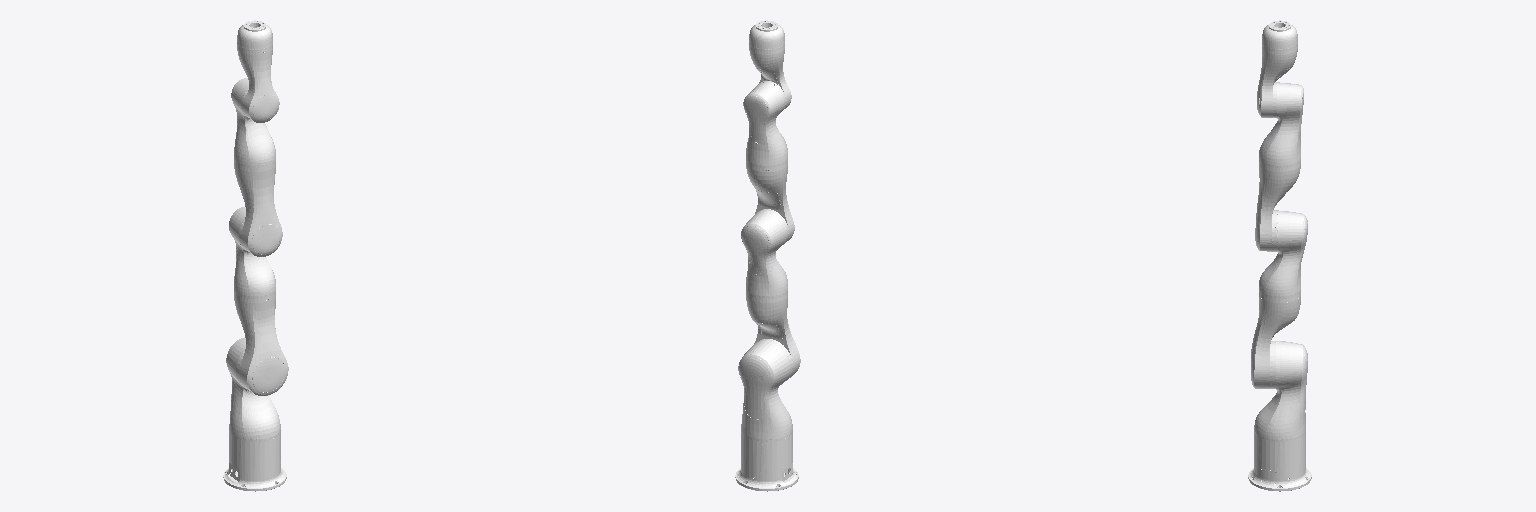
URDF robot description (Talon.SLDASM):
<?xml version="1.0" encoding="utf-8"?>
<!-- This URDF was automatically created by SolidWorks to URDF Exporter! Originally created by Stephen Brawner (brawner@gmail.com) 
     Commit Version: 1.6.0-1-g15f4949  Build Version: 1.6.7594.29634
     For more information, please see http://wiki.ros.org/sw_urdf_exporter -->
<robot
  name="Talon.SLDASM">
  <link
    name="base_link">
    <inertial>
      <origin
        xyz="0.00127347422154827 0.000275797702284139 0.0598068239928352"
        rpy="0 0 0" />
      <mass
        value="0.55933351813654" />
      <inertia
        ixx="0.00243933528887446"
        ixy="-5.15754595188692E-06"
        ixz="2.11921036731776E-05"
        iyy="0.00236549564791421"
        iyz="5.49858817377574E-06"
        izz="0.00264045684061397" />
    </inertial>
    <visual>
      <origin
        xyz="0 0 0"
        rpy="0 0 0" />
      <geometry>
        <mesh
          filename="../meshes/base_link.dae" />
      </geometry>
      <material
        name="">
        <color
          rgba="1 1 1 1" />
      </material>
    </visual>
    <collision>
      <origin
        xyz="0 0 0"
        rpy="0 0 0" />
      <geometry>
        <mesh
          filename="../meshes/base_link.dae" />
      </geometry>
    </collision>
  </link>
  <link
    name="link_1">
    <inertial>
      <origin
        xyz="5.44479186672421E-06 0.0161907562410961 -0.091527579055999"
        rpy="0 0 0" />
      <mass
        value="0.845104940114152" />
      <inertia
        ixx="0.00579532246535955"
        ixy="-3.09713355311223E-07"
        ixz="2.12348670960708E-07"
        iyy="0.00621844074604144"
        iyz="-0.000546693141475931"
        izz="0.00232883741177242" />
    </inertial>
    <visual>
      <origin
        xyz="0 0 0"
        rpy="0 0 0" />
      <geometry>
        <mesh
          filename="../meshes/link_1.dae" />
      </geometry>
      <material
        name="">
        <color
          rgba="1 1 1 1" />
      </material>
    </visual>
    <collision>
      <origin
        xyz="0 0 0"
        rpy="0 0 0" />
      <geometry>
        <mesh
          filename="../meshes/link_1.dae" />
      </geometry>
    </collision>
  </link>
  <joint
    name="joint_1"
    type="revolute">
    <origin
      xyz="0 0 0.348"
      rpy="0 0 0" />
    <parent
      link="base_link" />
    <child
      link="link_1" />
    <axis
      xyz="0 0 1" />
    <limit
      lower="0"
      upper="0"
      effort="0"
      velocity="0" />
  </joint>
  <link
    name="link_2">
    <inertial>
      <origin
        xyz="1.66574878335788E-05 0.116094766238578 0.0287616433338841"
        rpy="0 0 0" />
      <mass
        value="0.515454769584672" />
      <inertia
        ixx="0.00352100730718542"
        ixy="5.36538274245949E-07"
        ixz="-3.84307913161956E-08"
        iyy="0.00136412829021354"
        iyz="0.000845111192834095"
        izz="0.00355070752934383" />
    </inertial>
    <visual>
      <origin
        xyz="0 0 0"
        rpy="0 0 0" />
      <geometry>
        <mesh
          filename="../meshes/link_2.dae" />
      </geometry>
      <material
        name="">
        <color
          rgba="1 1 1 1" />
      </material>
    </visual>
    <collision>
      <origin
        xyz="0 0 0"
        rpy="0 0 0" />
      <geometry>
        <mesh
          filename="../meshes/link_2.dae" />
      </geometry>
    </collision>
  </link>
  <joint
    name="joint_2"
    type="revolute">
    <origin
      xyz="0 0 0"
      rpy="1.5708 0 0" />
    <parent
      link="link_1" />
    <child
      link="link_2" />
    <axis
      xyz="0 0 1" />
    <limit
      lower="0"
      upper="0"
      effort="0"
      velocity="0" />
  </joint>
  <link
    name="link_3">
    <inertial>
      <origin
        xyz="7.50185086869355E-07 0.0156223133980361 -0.0799387235317394"
        rpy="0 0 0" />
      <mass
        value="0.603649790178088" />
      <inertia
        ixx="0.00324453049474891"
        ixy="5.59611911206187E-08"
        ixz="7.00314670889335E-08"
        iyy="0.00336963330811861"
        iyz="-0.000406826192004225"
        izz="0.00118273569484039" />
    </inertial>
    <visual>
      <origin
        xyz="0 0 0"
        rpy="0 0 0" />
      <geometry>
        <mesh
          filename="../meshes/link_3.dae" />
      </geometry>
      <material
        name="">
        <color
          rgba="1 1 1 1" />
      </material>
    </visual>
    <collision>
      <origin
        xyz="0 0 0"
        rpy="0 0 0" />
      <geometry>
        <mesh
          filename="../meshes/link_3.dae" />
      </geometry>
    </collision>
  </link>
  <joint
    name="joint_3"
    type="revolute">
    <origin
      xyz="0 0.41 0"
      rpy="-1.5708 0.0 0" />
    <parent
      link="link_2" />
    <child
      link="link_3" />
    <axis
      xyz="0 0 1" />
    <limit
      lower="0"
      upper="0"
      effort="0"
      velocity="0" />
  </joint>
  <link
    name="link_4">
    <inertial>
      <origin
        xyz="3.76592711375011E-06 0.119836460910615 0.022796377853045"
        rpy="0 0 0" />
      <mass
        value="0.426413769114997" />
      <inertia
        ixx="0.00237641440779408"
        ixy="2.06404797240597E-08"
        ixz="1.63114159939062E-07"
        iyy="0.000942849983094583"
        iyz="0.000465633594148769"
        izz="0.00243321523139839" />
    </inertial>
    <visual>
      <origin
        xyz="0 0 0"
        rpy="0 0 0" />
      <geometry>
        <mesh
          filename="../meshes/link_4.dae" />
      </geometry>
      <material
        name="">
        <color
          rgba="1 1 1 1" />
      </material>
    </visual>
    <collision>
      <origin
        xyz="0 0 0"
        rpy="0 0 0" />
      <geometry>
        <mesh
          filename="../meshes/link_4.dae" />
      </geometry>
    </collision>
  </link>
  <joint
    name="joint_4"
    type="revolute">
    <origin
      xyz="0 0 0"
      rpy="1.5708 0 0" />
    <parent
      link="link_3" />
    <child
      link="link_4" />
    <axis
      xyz="0 0 1" />
    <limit
      lower="0"
      upper="0"
      effort="0"
      velocity="0" />
  </joint>
  <link
    name="link_5">
    <inertial>
      <origin
        xyz="1.54601336331414E-05 0.0138685764271078 -0.0863362386693725"
        rpy="0 0 0" />
      <mass
        value="0.538781113488762" />
      <inertia
        ixx="0.0026343631954417"
        ixy="5.89218155516632E-07"
        ixz="5.4374587441694E-07"
        iyy="0.00271456640279973"
        iyz="-0.000293139957982096"
        izz="0.000981814667417963" />
    </inertial>
    <visual>
      <origin
        xyz="0 0 0"
        rpy="0 0 0" />
      <geometry>
        <mesh
          filename="../meshes/link_5.dae" />
      </geometry>
      <material
        name="">
        <color
          rgba="1 1 1 1" />
      </material>
    </visual>
    <collision>
      <origin
        xyz="0 0 0"
        rpy="0 0 0" />
      <geometry>
        <mesh
          filename="../meshes/link_5.dae" />
      </geometry>
    </collision>
  </link>
  <joint
    name="joint_5"
    type="revolute">
    <origin
      xyz="0 0.401 0"
      rpy="-1.5708 0 0" />
    <parent
      link="link_4" />
    <child
      link="link_5" />
    <axis
      xyz="0 0 1" />
    <limit
      lower="0"
      upper="0"
      effort="0"
      velocity="0" />
  </joint>
  <link
    name="link_6">
    <inertial>
      <origin
        xyz="1.13755728261694E-05 0.0905759671078148 0.0205192342166667"
        rpy="0 0 0" />
      <mass
        value="0.241804638076589" />
      <inertia
        ixx="0.000835731978799874"
        ixy="2.34899818336643E-07"
        ixz="4.72123863857083E-09"
        iyy="0.000380396414560217"
        iyz="0.000181114388077025"
        izz="0.000835718319527267" />
    </inertial>
    <visual>
      <origin
        xyz="0 0 0"
        rpy="0 0 0" />
      <geometry>
        <mesh
          filename="../meshes/link_6.dae" />
      </geometry>
      <material
        name="">
        <color
          rgba="1 1 1 1" />
      </material>
    </visual>
    <collision>
      <origin
        xyz="0 0 0"
        rpy="0 0 0" />
      <geometry>
        <mesh
          filename="../meshes/link_6.dae" />
      </geometry>
    </collision>
  </link>
  <joint
    name="joint_6"
    type="revolute">
    <origin
      xyz="0 0 0"
      rpy="1.5708 0 0" />
    <parent
      link="link_5" />
    <child
      link="link_6" />
    <axis
      xyz="0 0 1" />
    <limit
      lower="0"
      upper="0"
      effort="0"
      velocity="0" />
  </joint>
  <link
    name="link_7">
    <inertial>
      <origin
        xyz="-1.16496429690416E-09 1.93639311254993E-05 -0.0197746025777925"
        rpy="0 0 0" />
      <mass
        value="0.134516937122384" />
      <inertia
        ixx="0.000111729359893965"
        ixy="-9.45576223623909E-11"
        ixz="-6.23059423956938E-11"
        iyy="0.000111665195597899"
        iyz="-1.79818625937677E-08"
        izz="0.000182060691429154" />
    </inertial>
    <visual>
      <origin
        xyz="0 0 0"
        rpy="0 0 0" />
      <geometry>
        <mesh
          filename="../meshes/link_7.dae" />
      </geometry>
      <material
        name="">
        <color
          rgba="1 1 1 1" />
      </material>
    </visual>
    <collision>
      <origin
        xyz="0 0 0"
        rpy="0 0 0" />
      <geometry>
        <mesh
          filename="../meshes/link_7.dae" />
      </geometry>
    </collision>
  </link>
  <joint
    name="joint_7"
    type="revolute">
    <origin
      xyz="0 0.23 0"
      rpy="-1.5708 0 0" />
    <parent
      link="link_6" />
    <child
      link="link_7" />
    <axis
      xyz="0 0 -1" />
    <limit
      lower="0"
      upper="0"
      effort="0"
      velocity="0" />
  </joint>
</robot>

--- What the picture shows (computed from the rendered views, not written in the file) ---
The picture shows the robot from 3 angles, left to right: view 1: azimuth 30°, elevation 25°; view 2: azimuth 150°, elevation 25°; view 3: azimuth 270°, elevation 25°; orthographic projection.
Robot: Talon.SLDASM — 8 links, 7 joints (7 revolute); root link base_link; default pose: every joint at zero.
Visible links, largest first — view 1: link_2, link_4, link_1, base_link, link_5, link_3, link_6, link_7; view 2: link_1, link_3, link_5, base_link, link_2, link_4, link_6, link_7; view 3: link_1, link_3, link_5, base_link, link_2, link_4, link_6, link_7.
Boxes of the visible links, x1,y1,x2,y2 form: link_2: [234, 292, 288, 395]; link_4: [234, 161, 282, 256]; link_1: [226, 338, 280, 441]; base_link: [223, 432, 286, 491]; link_5: [231, 78, 275, 167]; link_3: [229, 207, 275, 298]; link_6: [237, 45, 279, 122]; link_7: [237, 20, 272, 50]; link_1: [738, 339, 792, 441]; link_3: [741, 209, 788, 298]; link_5: [743, 81, 787, 167]; base_link: [735, 432, 798, 491]; link_2: [746, 292, 800, 380]; link_4: [746, 161, 794, 242]; link_6: [749, 45, 791, 108]; link_7: [749, 20, 784, 50]; link_1: [1254, 341, 1307, 441]; link_3: [1259, 210, 1307, 298]; link_5: [1259, 82, 1303, 167]; base_link: [1248, 432, 1311, 491]; link_2: [1251, 292, 1300, 388]; link_4: [1255, 162, 1300, 251]; link_6: [1257, 45, 1297, 117]; link_7: [1262, 20, 1297, 50].
Bounding box of the posed robot: 0.176 × 0.176 × 1.39 m (x, y, z).
8 mesh visuals loaded from 8 distinct referenced files (8 Collada DAE).
